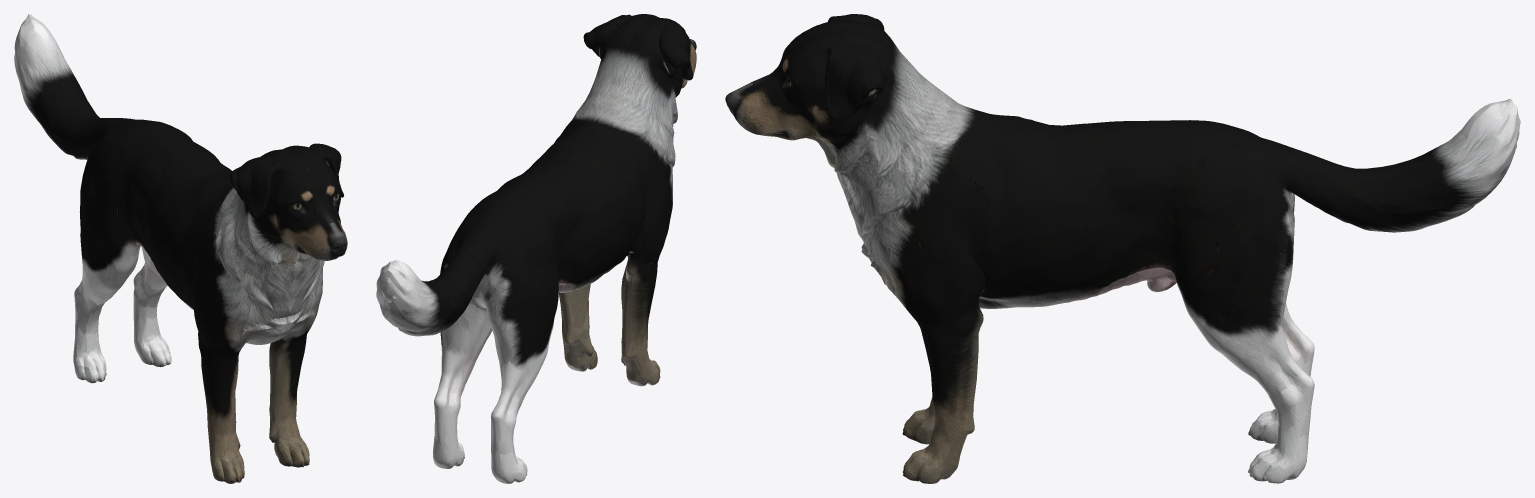
The model's file is zero-parado.glb.
The picture shows the model from 3 angles, left to right: view 1: azimuth 30°, elevation 25°; view 2: azimuth 150°, elevation 25°; view 3: azimuth 270°, elevation 25°; orthographic projection. The views are drawn at different scales.
Parts seen in each view (by area): view 1: output_unwrapped; view 2: output_unwrapped; view 3: output_unwrapped.
Part boxes in pixels (x1=…): output_unwrapped: x1=14, y1=14, x2=347, y2=483; output_unwrapped: x1=376, y1=14, x2=696, y2=483; output_unwrapped: x1=725, y1=14, x2=1520, y2=483.
Bounding box in the file's own units: 0.3845 × 1.13 × 1.9.
1 material, 1 textured.
